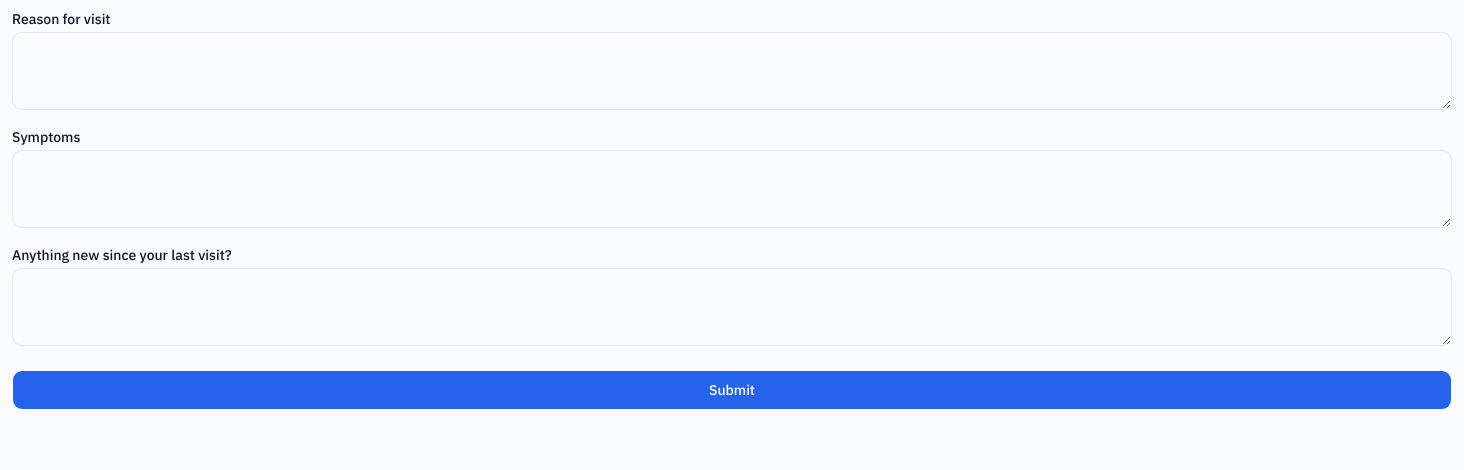
Test: VisitIntakeRequestForm (BAC-47, AC1) › requires reasonForVisit and symptoms before submitting
This screenshot has width=1464, height=470.
Click the button "Submit". click: coordinates (732, 390)
box: [12,370,1452,410]
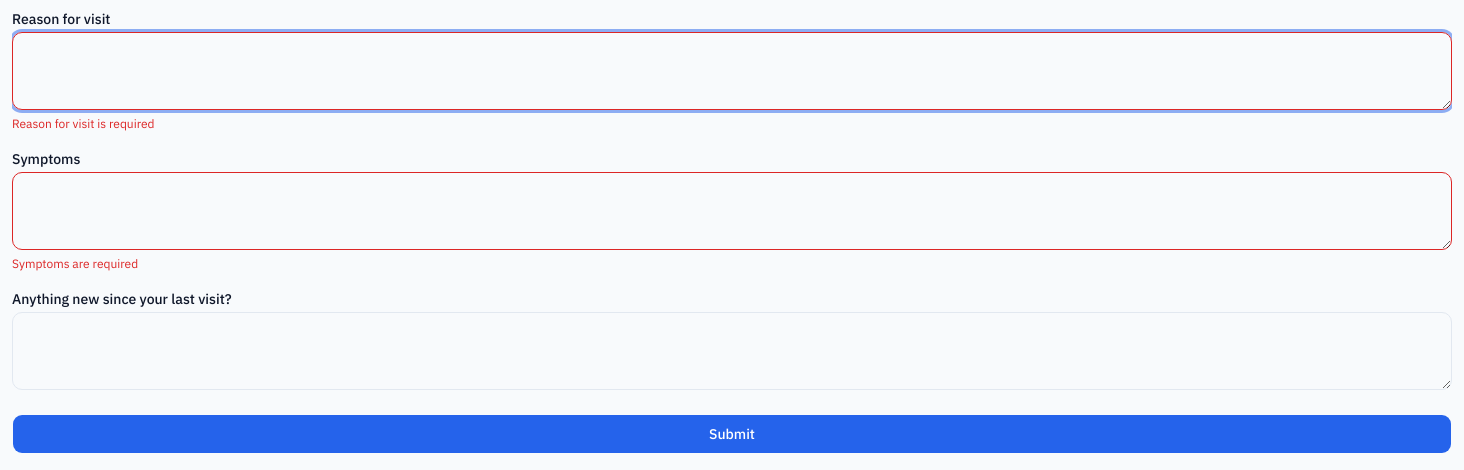
Expected: the text "Reason for visit is required" is shown, [12,116,155,131]
Expected: the text "Symptoms are required" is shown, [12,256,138,271]
